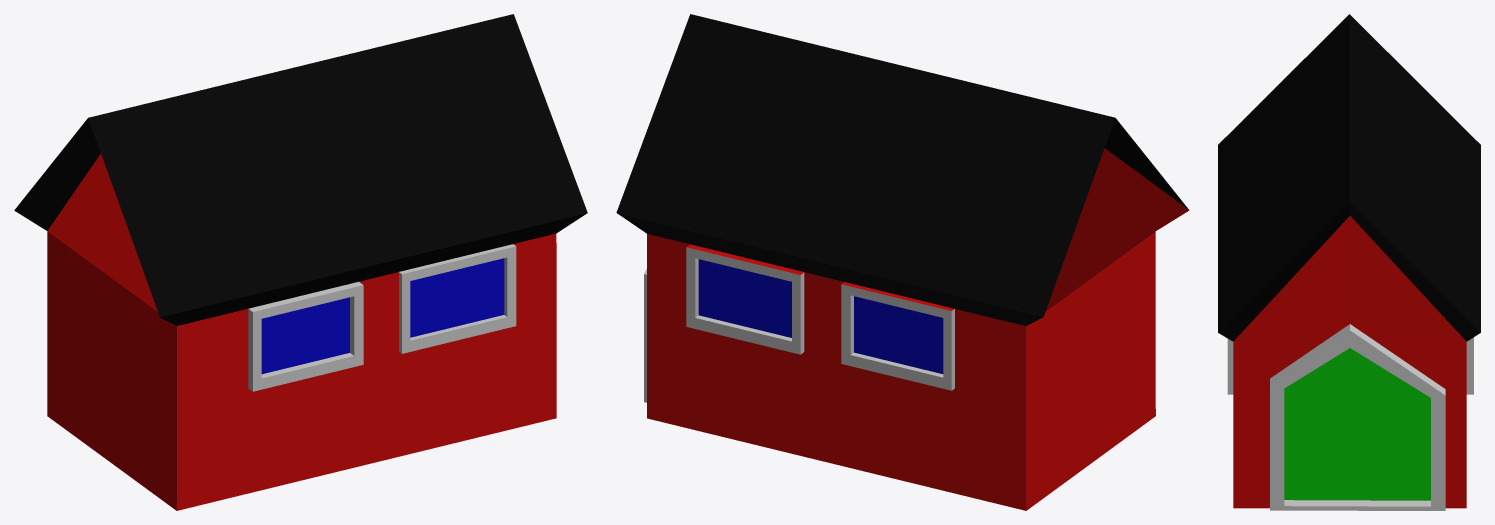
File: Farm_Barn_1.fbx
The picture shows the model from 3 angles, left to right: view 1: azimuth 30°, elevation 25°; view 2: azimuth 150°, elevation 25°; view 3: azimuth 270°, elevation 25°; orthographic projection. The views are drawn at different scales.
Visible parts, largest first — view 1: Farm_Barn_1; view 2: Farm_Barn_1; view 3: Farm_Barn_1.
Part boxes in pixels (x1=…): Farm_Barn_1: x1=14, y1=14, x2=587, y2=510; Farm_Barn_1: x1=616, y1=14, x2=1189, y2=510; Farm_Barn_1: x1=1218, y1=14, x2=1480, y2=510.
Bounding box in the file's own units: 804 × 631 × 475.
